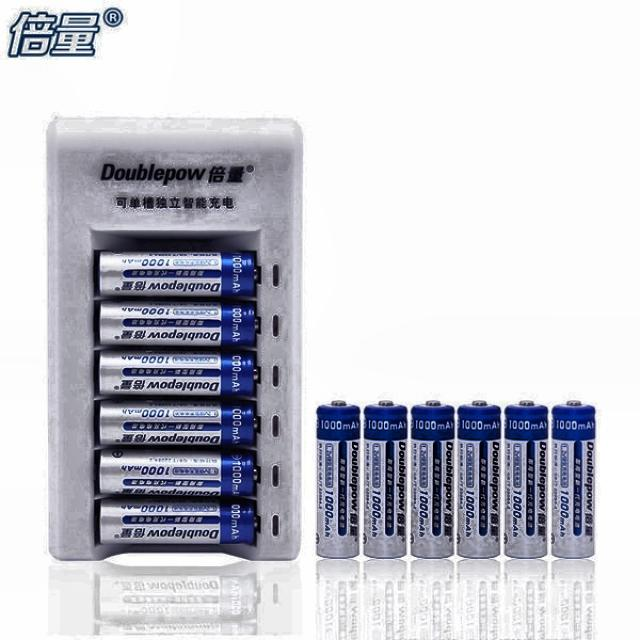Non-Valuable Waste - Batteries: (99, 449, 255, 496), (99, 350, 258, 396), (98, 251, 255, 297), (99, 498, 256, 544), (99, 400, 256, 445), (99, 302, 256, 346), (316, 401, 360, 558), (364, 401, 408, 558), (411, 401, 455, 558), (504, 401, 548, 558), (551, 401, 595, 558), (458, 401, 501, 557)
